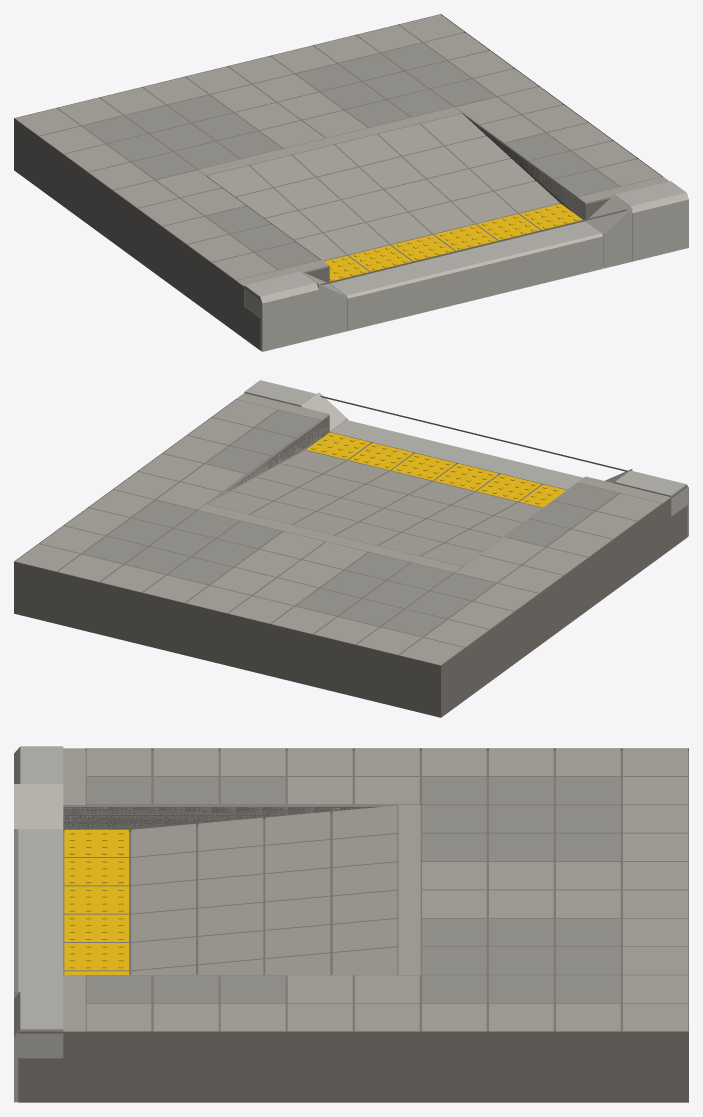
Rendered from SC_Gnd_Curb_Ramp.gltf.
3 renders of one model, top to bottom at view 1: azimuth 30°, elevation 25°; view 2: azimuth 150°, elevation 25°; view 3: azimuth 270°, elevation 25°, orthographic. The views are drawn at different scales.
Visible parts, largest first — view 1: SC_Gnd_Curb_Ramp; view 2: SC_Gnd_Curb_Ramp; view 3: SC_Gnd_Curb_Ramp.
Part boxes in pixels (<box>): SC_Gnd_Curb_Ramp: <box>14,14,688,351</box>; SC_Gnd_Curb_Ramp: <box>14,380,688,717</box>; SC_Gnd_Curb_Ramp: <box>14,746,688,1102</box>.
Size of the model in its own units: 3 by 0.36 by 3.02.
1 material, 1 textured.
